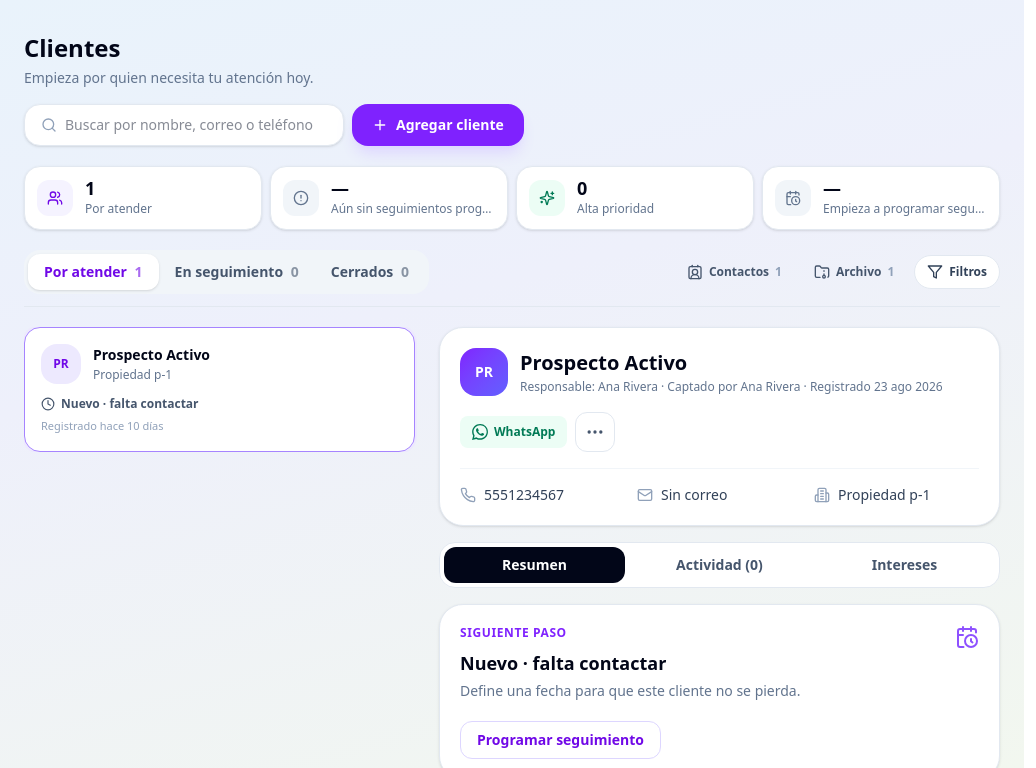
Test: Clientes: navegación por tipo de relación › Archivo muestra las solicitudes antiguas sin mezclarlas con el trabajo actual
Click the button "Archivo 1".
click(854, 272)  # box [802, 256, 906, 288]
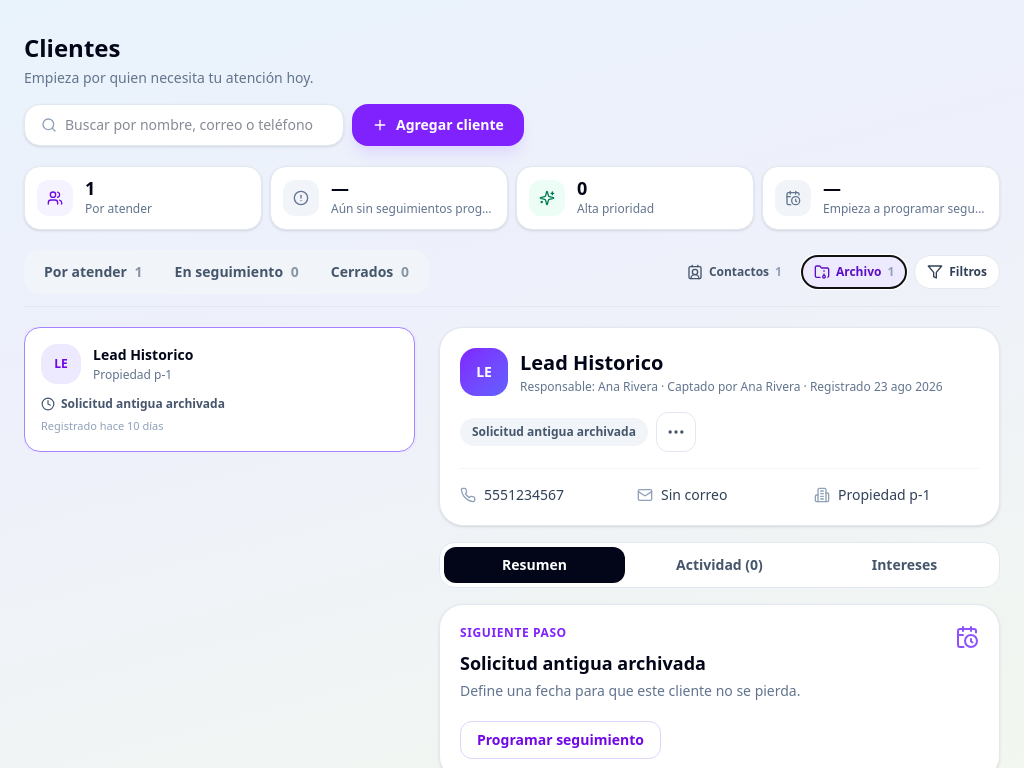
Result: no buttons "Prospecto Activo" are shown
Result: the text "Lead Historico" is shown at [93, 345, 193, 365]
